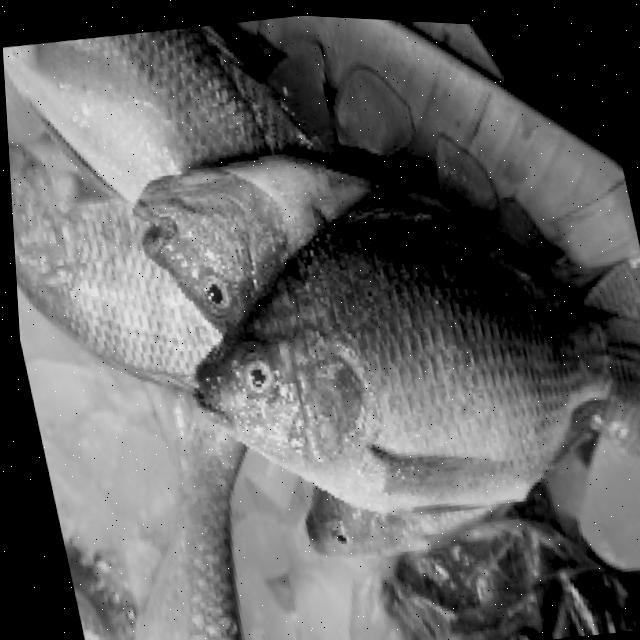Fresh: (152, 201, 640, 539)
